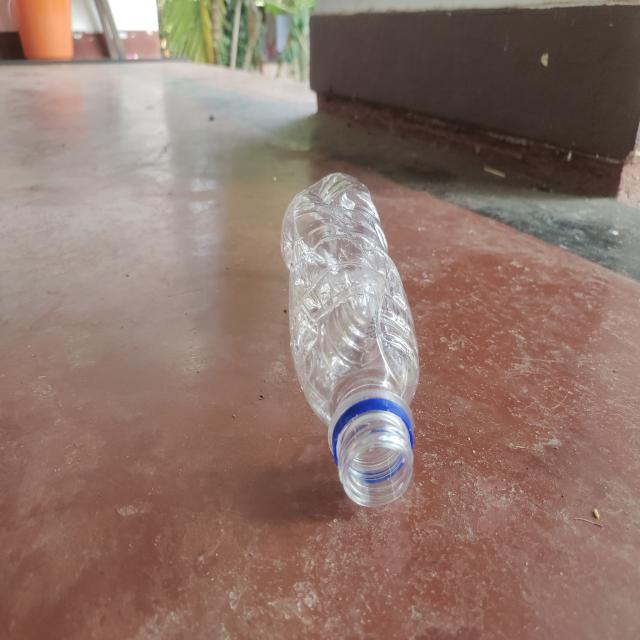plastic: (278, 170, 425, 520)
